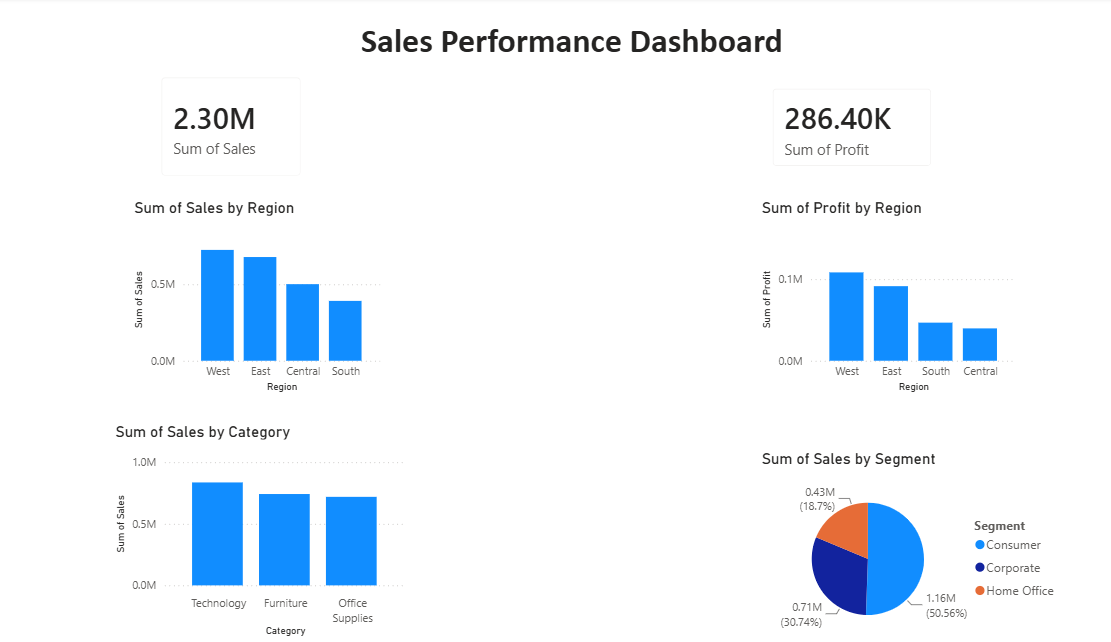

The page's visual inventory and layout, read from the dashboard file:
{"tool":"powerbi","page":{"name":"Page 1","canvas":[1280,720],"ordinal":0},"visuals":[{"type":"clusteredColumnChart","fields":{"Category":["Orders.Region"],"Y":["Sum(Orders.Sales)"]},"box":[163.3,220.9,279.9,218.2],"z":0},{"type":"clusteredColumnChart","fields":{"Category":["Orders.Region"],"Y":["Sum(Orders.Profit)"]},"box":[852.1,220.9,289.5,218.2],"z":1000},{"type":"clusteredColumnChart","fields":{"Category":["Orders.Category"],"Y":["Sum(Orders.Sales)"]},"box":[142.7,466.6,329.3,240.1],"z":2000},{"type":"pieChart","fields":{"Category":["Orders.Segment"],"Y":["Sum(Orders.Sales)"]},"box":[852.1,496.7,340.3,209.9],"z":3000},{"type":"cardVisual","fields":{"Data":["Sum(Orders.Sales)"]},"box":[181.1,71.4,188,142.7],"z":4000},{"type":"cardVisual","fields":{"Data":["Sum(Orders.Profit)"]},"box":[852.1,83.7,208.6,119.4],"z":5000},{"type":"textbox","box":[46.7,20.6,1211.7,50.8],"z":6000}]}

Visuals, with their boxes in screenshot pixels (x1, y1, x2, y2), scaled from the page's 1280x720 canvas onto the 1111x642 screenshot:
clusteredColumnChart - Orders.Region x Sum(Orders.Sales): [left=142, top=197, right=385, bottom=392]
clusteredColumnChart - Orders.Region x Sum(Orders.Profit): [left=740, top=197, right=991, bottom=392]
clusteredColumnChart - Orders.Category x Sum(Orders.Sales): [left=124, top=416, right=410, bottom=630]
pieChart - Orders.Segment x Sum(Orders.Sales): [left=740, top=443, right=1035, bottom=630]
cardVisual - Sum(Orders.Sales): [left=157, top=64, right=320, bottom=191]
cardVisual - Sum(Orders.Profit): [left=740, top=75, right=921, bottom=181]
textbox: [left=41, top=18, right=1092, bottom=64]
